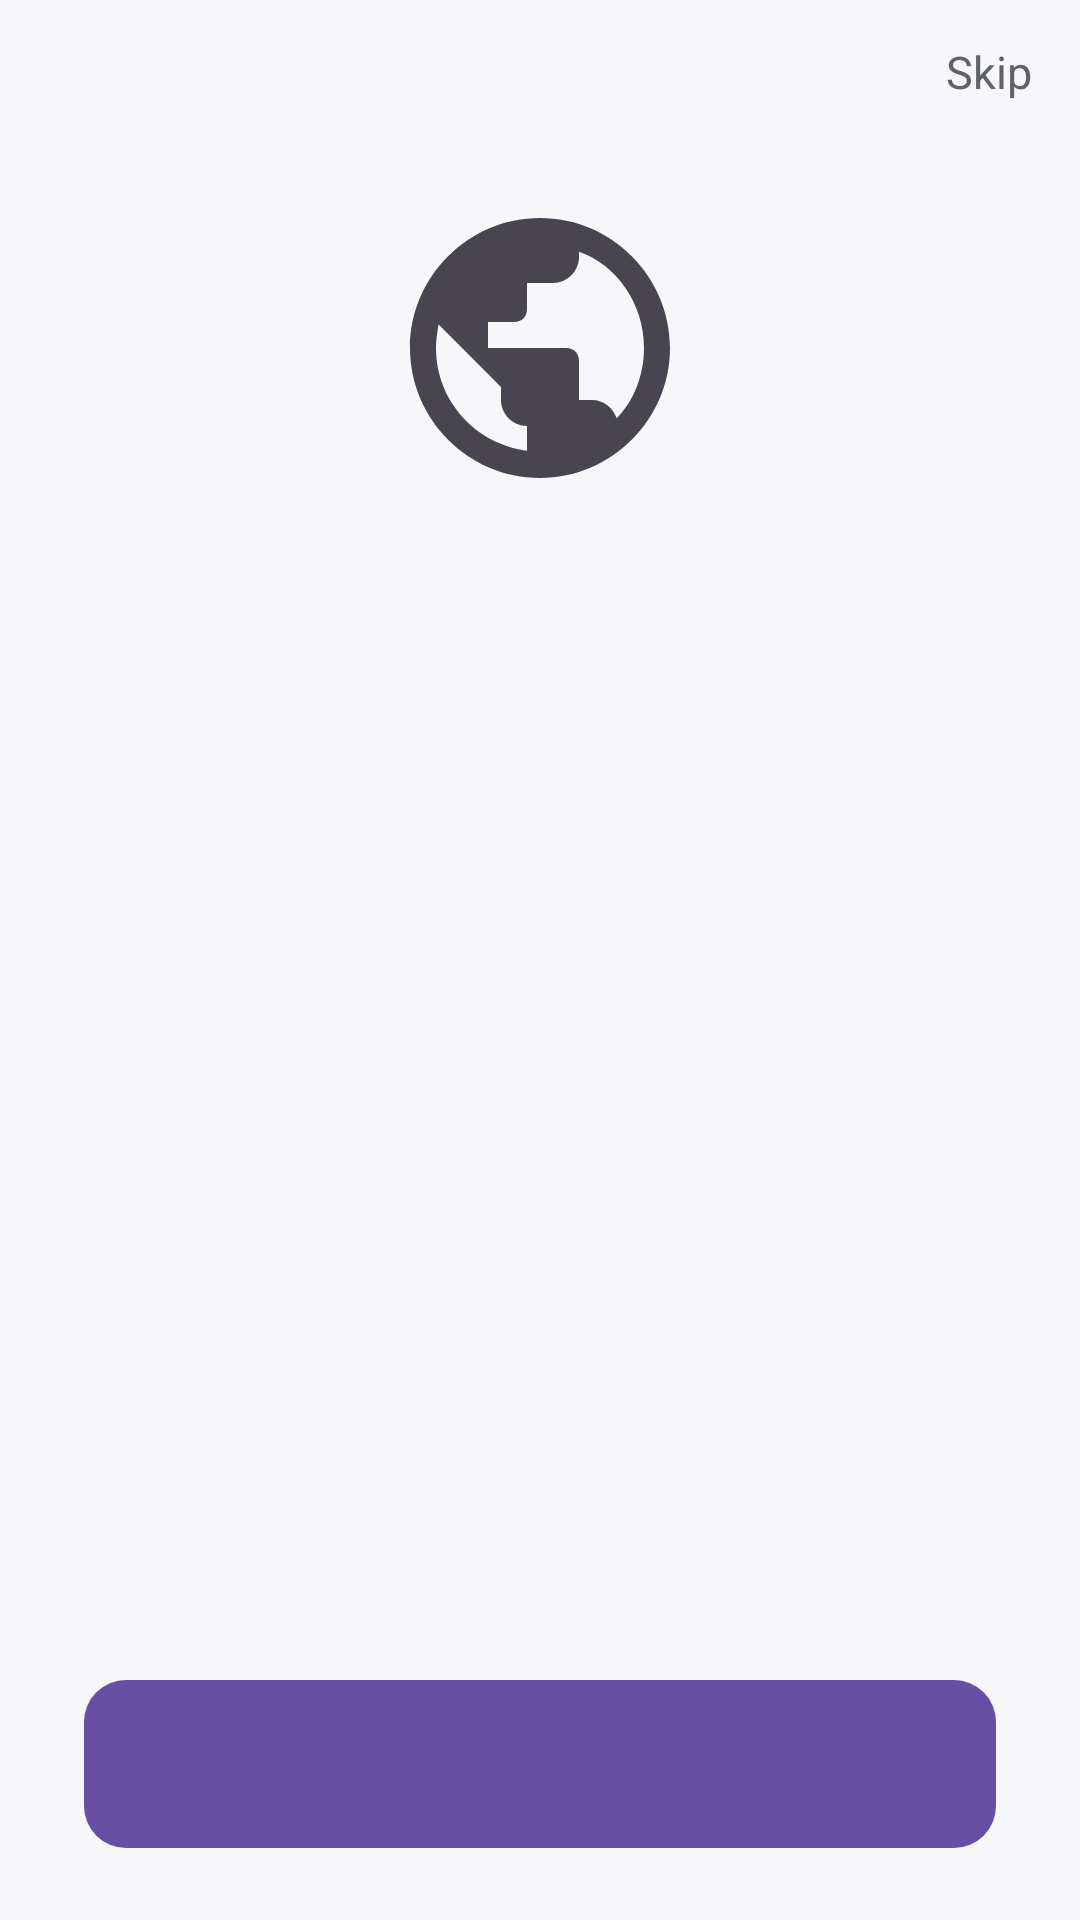

Screen size 1080 × 1920. Icon name, then its center in pixels as (x=x, y=y):
globe: (x=540, y=348)
